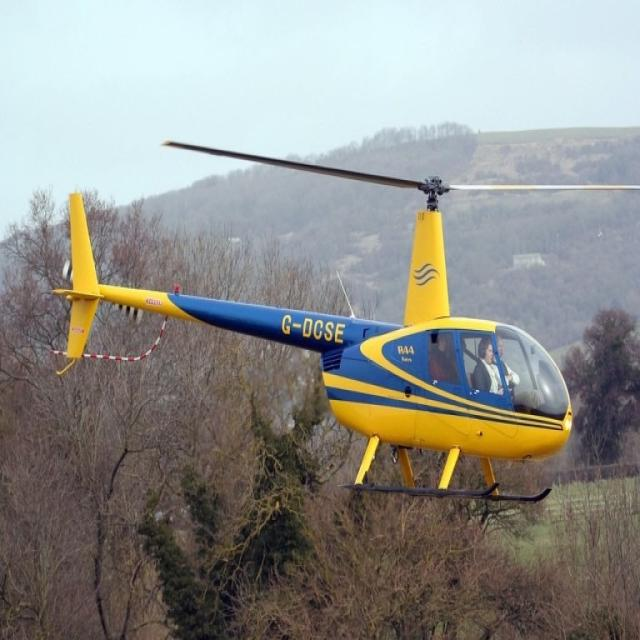CIV_HELO: (46, 170, 576, 506)
